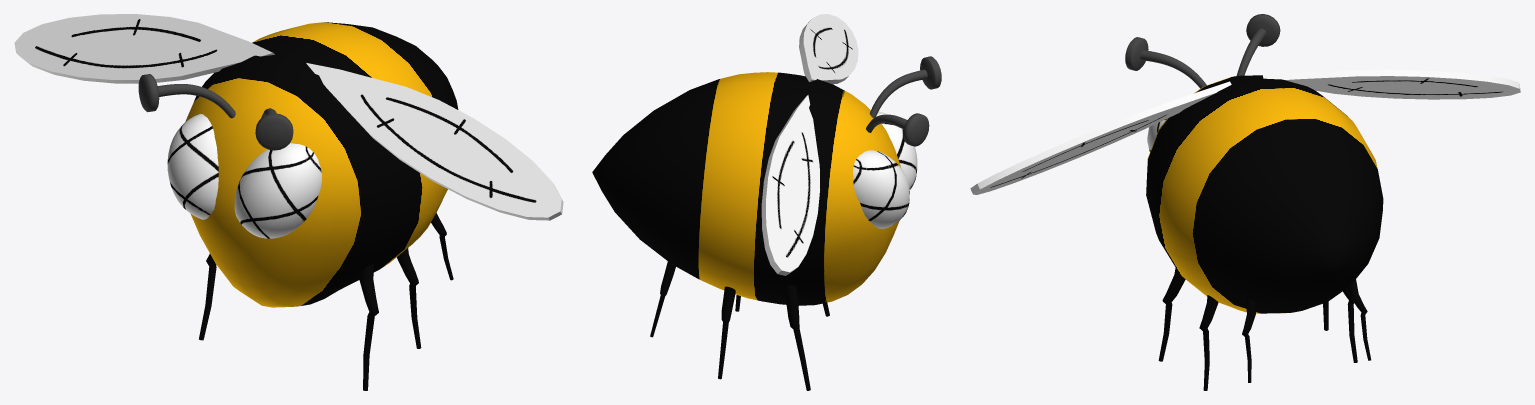
File: BeeMerge1.fbx
3 views of the same model, side by side, from view 1: azimuth 30°, elevation 25°; view 2: azimuth 150°, elevation 25°; view 3: azimuth 270°, elevation 25° (orthographic). The views are drawn at different scales.
Parts seen in each view (by area): view 1: pSphere3, right_wing1, right_wing; view 2: pSphere3, right_wing, right_wing1; view 3: pSphere3, right_wing, right_wing1.
Boxes of the visible parts, left/top/right/bottom form: pSphere3: left=138, top=22, right=458, bottom=390; right_wing1: left=306, top=63, right=563, bottom=220; right_wing: left=14, top=14, right=274, bottom=83; pSphere3: left=592, top=56, right=941, bottom=390; right_wing: left=761, top=95, right=819, bottom=275; right_wing1: left=799, top=14, right=858, bottom=84; pSphere3: left=1125, top=14, right=1383, bottom=390; right_wing: left=1263, top=69, right=1520, bottom=99; right_wing1: left=970, top=81, right=1231, bottom=194.
Bounding box in the file's own units: 5.72 × 5.04 × 9.09.
